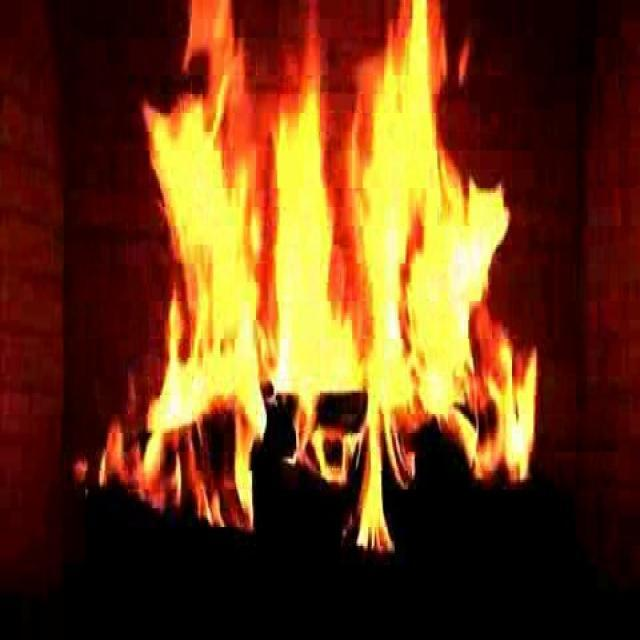Fire: (128, 15, 540, 552)
